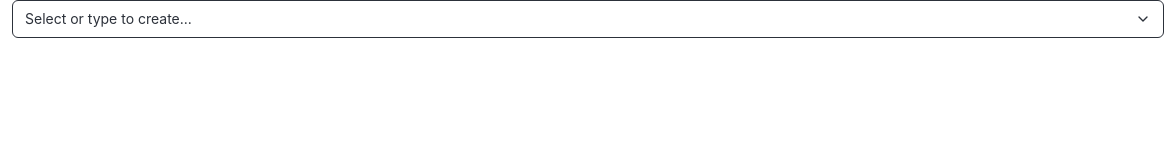
Test: CreatableSelect › shows create new option when typing non-existent value
Click the element showing "Select or type to create...". click: x=108, y=18
box: [25,10,192,27]
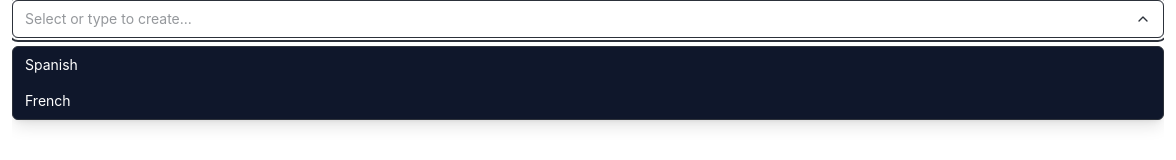
Type "Italian" into the field. click: x=580, y=19
box: [25,9,1135,29]
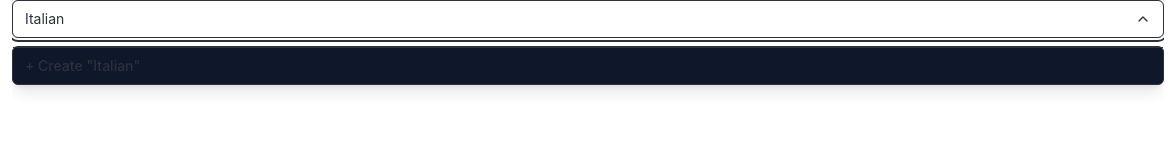
expect the button "+ Create \"Italian\"" is shown: met, box [13,47,1163,84]
